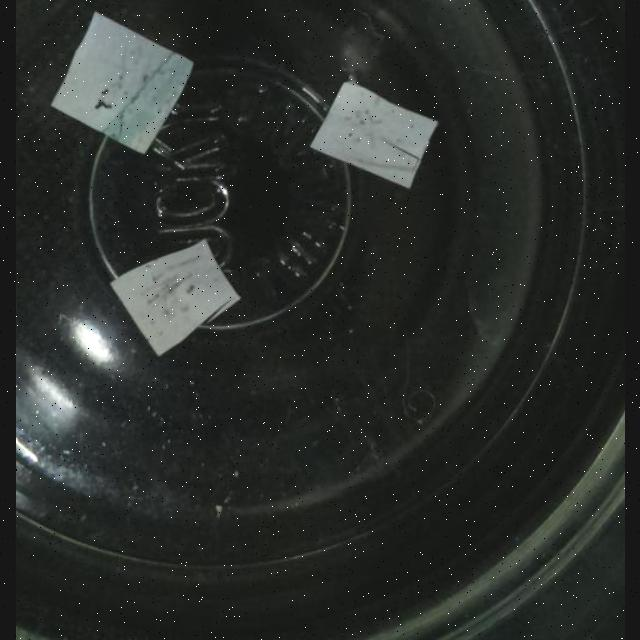Fragment: (52, 10, 194, 152), (108, 240, 242, 356), (309, 80, 439, 188)
